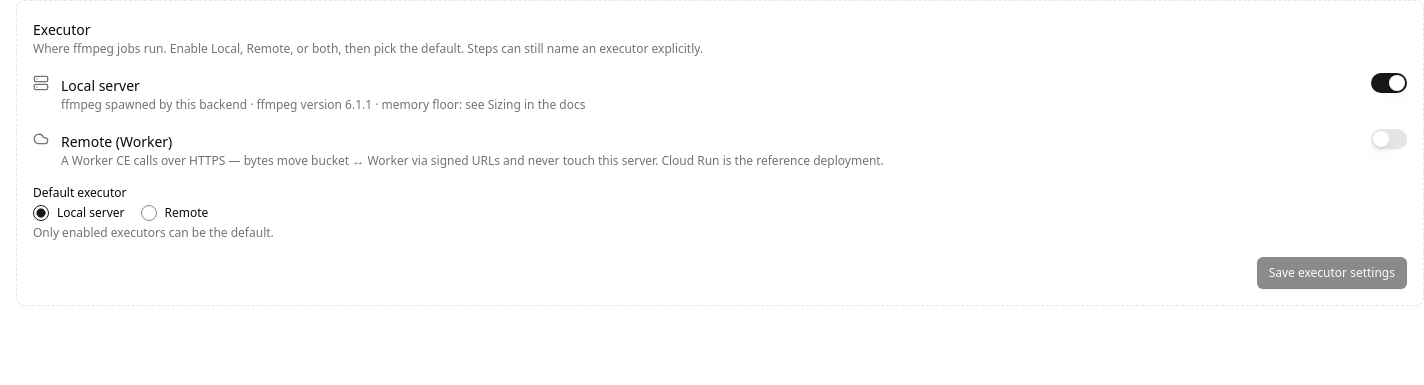
Test: FfmpegExecutorSettings › no connections at all: helper text, and the Remote switch still toggles
The image size is (1424, 385).
Step 1. Click the switch named "Remote" → x=1389, y=139, box top-left (1371, 129), bottom-right (1407, 149)
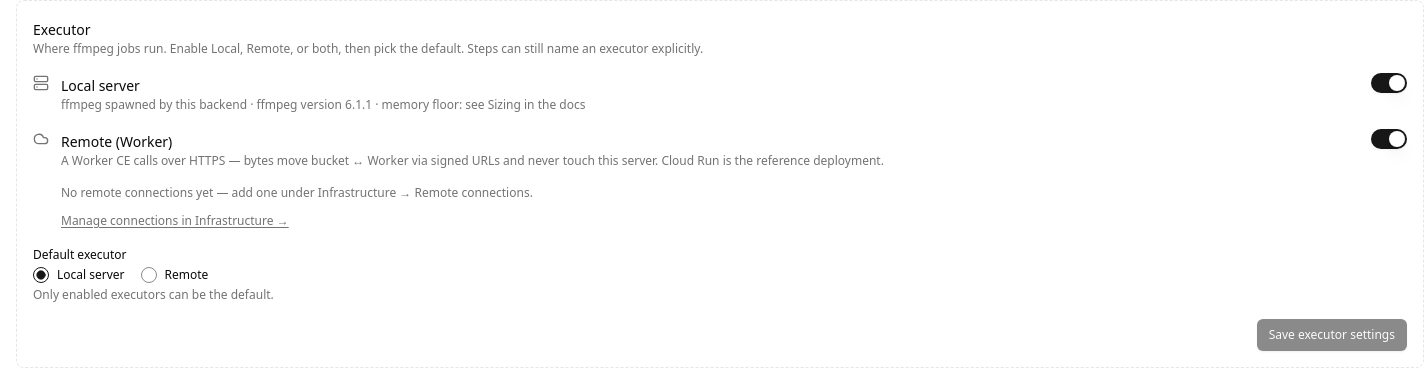
Now the text "No remote connections yet — add one under Infrastructure" is shown, box top-left (61, 184), bottom-right (533, 201)
